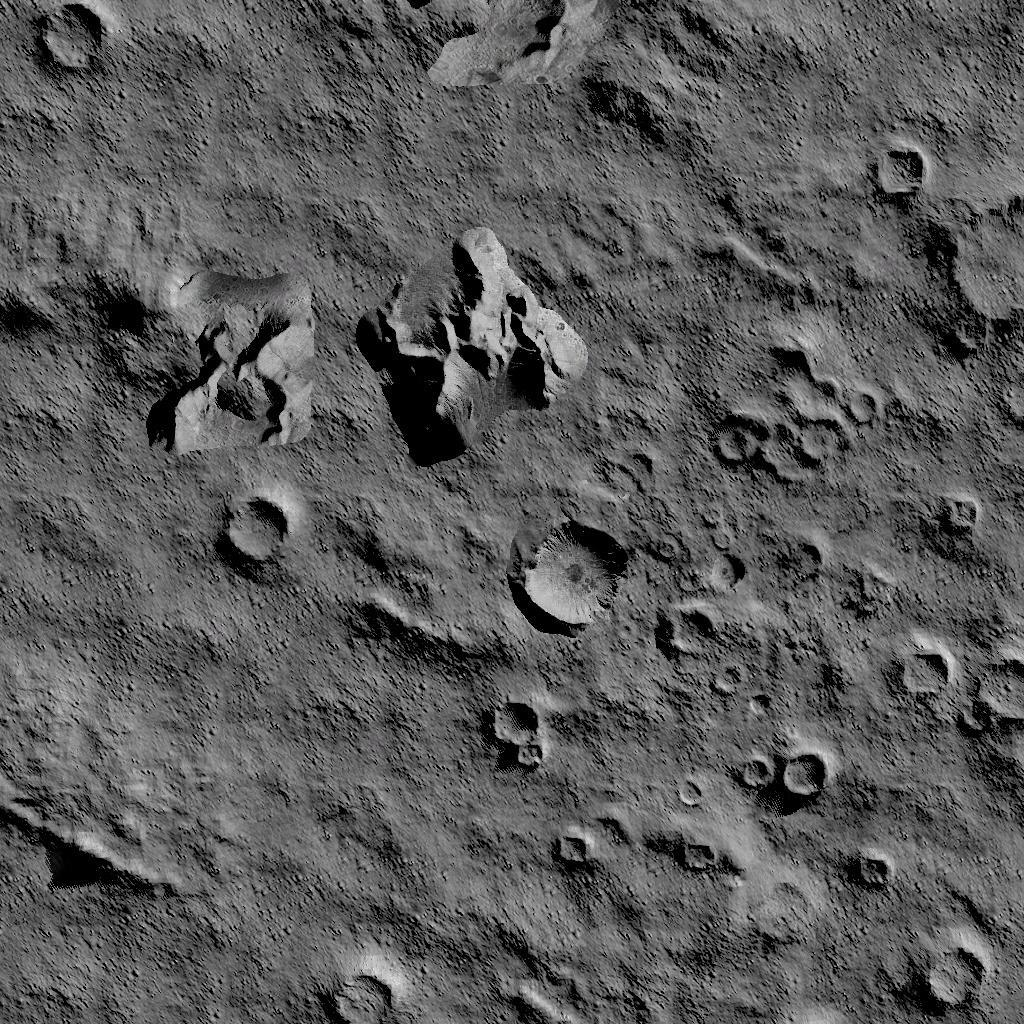Boulders: (0, 218, 320, 458), (362, 218, 594, 468), (341, 0, 633, 122), (330, 511, 494, 669), (0, 768, 198, 898)
Crater: (704, 348, 884, 488), (940, 202, 1024, 434), (508, 503, 633, 637), (888, 627, 1024, 740), (654, 546, 746, 664), (212, 484, 306, 590), (24, 0, 116, 100), (904, 934, 998, 1024), (728, 734, 828, 812), (321, 949, 419, 1024), (482, 690, 562, 775), (864, 142, 929, 208), (843, 835, 902, 906), (666, 823, 732, 884), (932, 489, 988, 543), (544, 822, 600, 874)
Plan surface: (226, 688, 472, 912), (2, 484, 194, 727), (138, 0, 308, 204), (760, 0, 1024, 122), (0, 927, 300, 1024)
